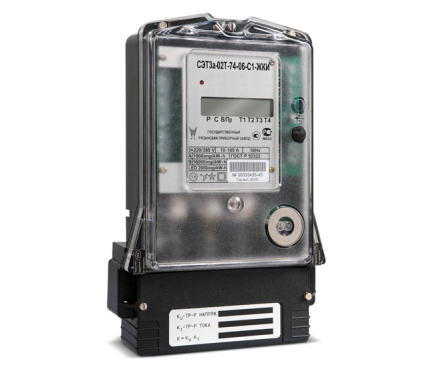counter: (132, 8, 326, 301)
counter_screen: (198, 94, 275, 121)
